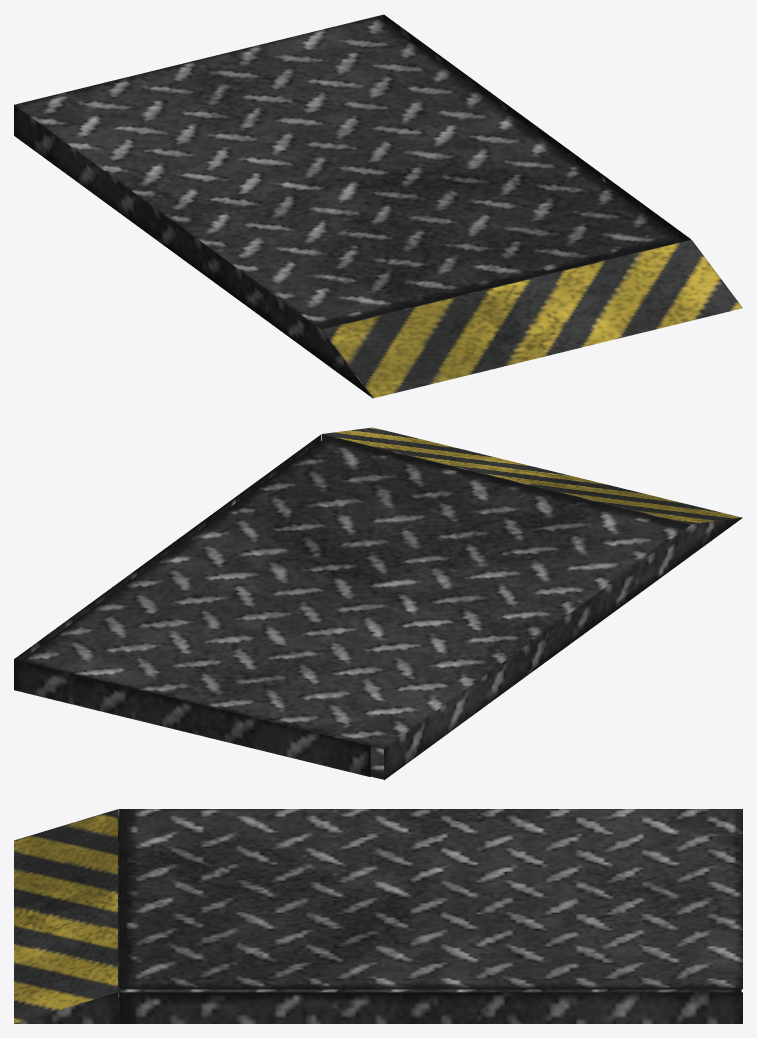
The picture shows the model from 3 angles, top to bottom: view 1: azimuth 30°, elevation 25°; view 2: azimuth 150°, elevation 25°; view 3: azimuth 270°, elevation 25°; orthographic projection.
Visible parts, largest first — view 1: stand; view 2: stand; view 3: stand.
Part boxes in pixels (x1,y1,x2,y2): stand: [14, 14, 742, 398]; stand: [14, 427, 742, 780]; stand: [14, 809, 742, 1023].
Size of the model in its own units: 78.12 by 6.25 by 131.
Materials: 1 (1 with a texture image).
